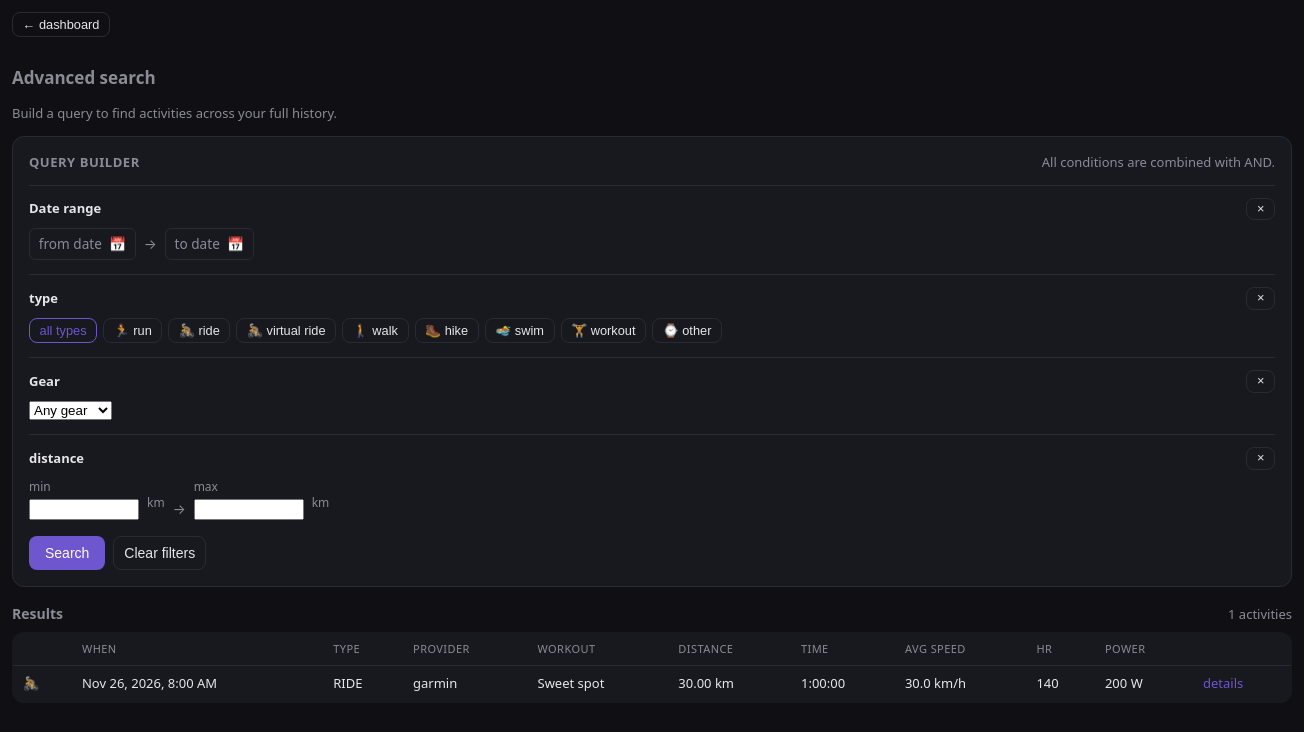
Test case: AdvancedSearchSection › removes and re-adds a filter
Check: the text "1 activities" is shown, box [1228,605,1292,624]
Click the button named "Remove filter distance".
click(1261, 458)  # box [1246,447,1275,470]
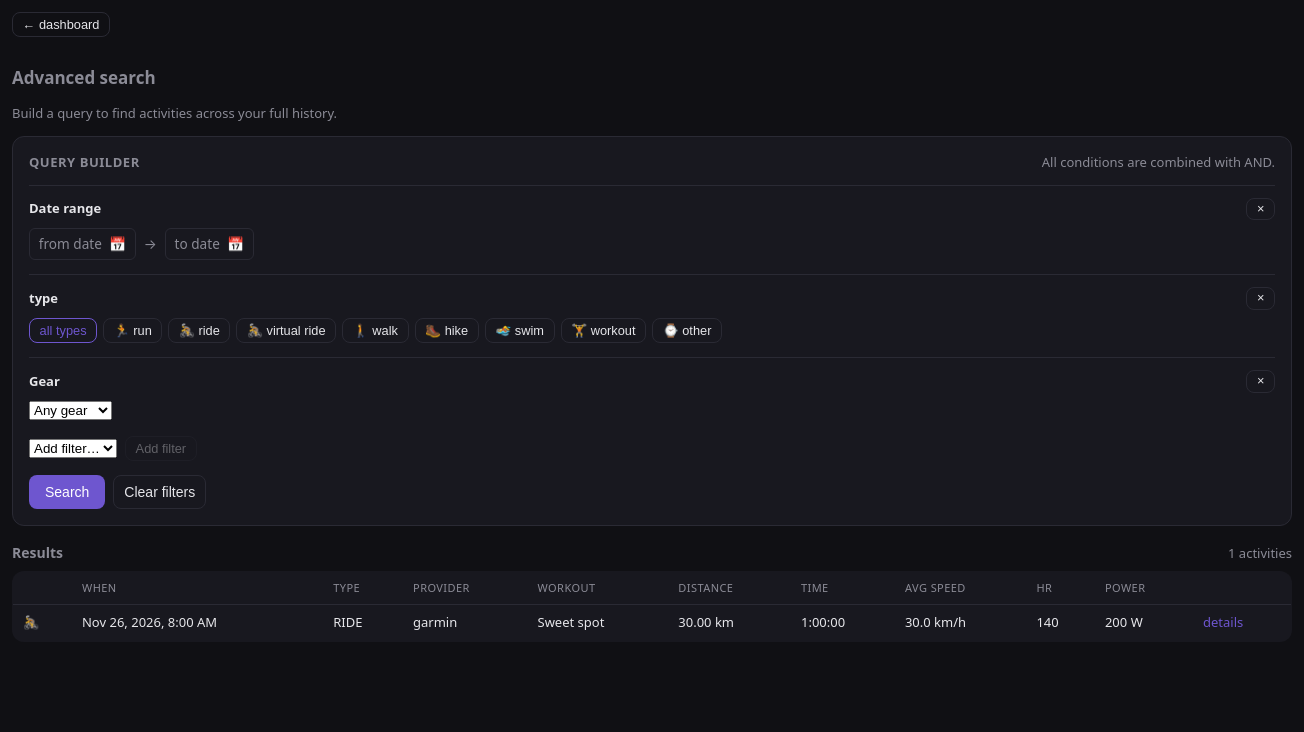
Click the button named "Remove filter Date range".
click(1261, 209)  # box [1246,198,1275,220]
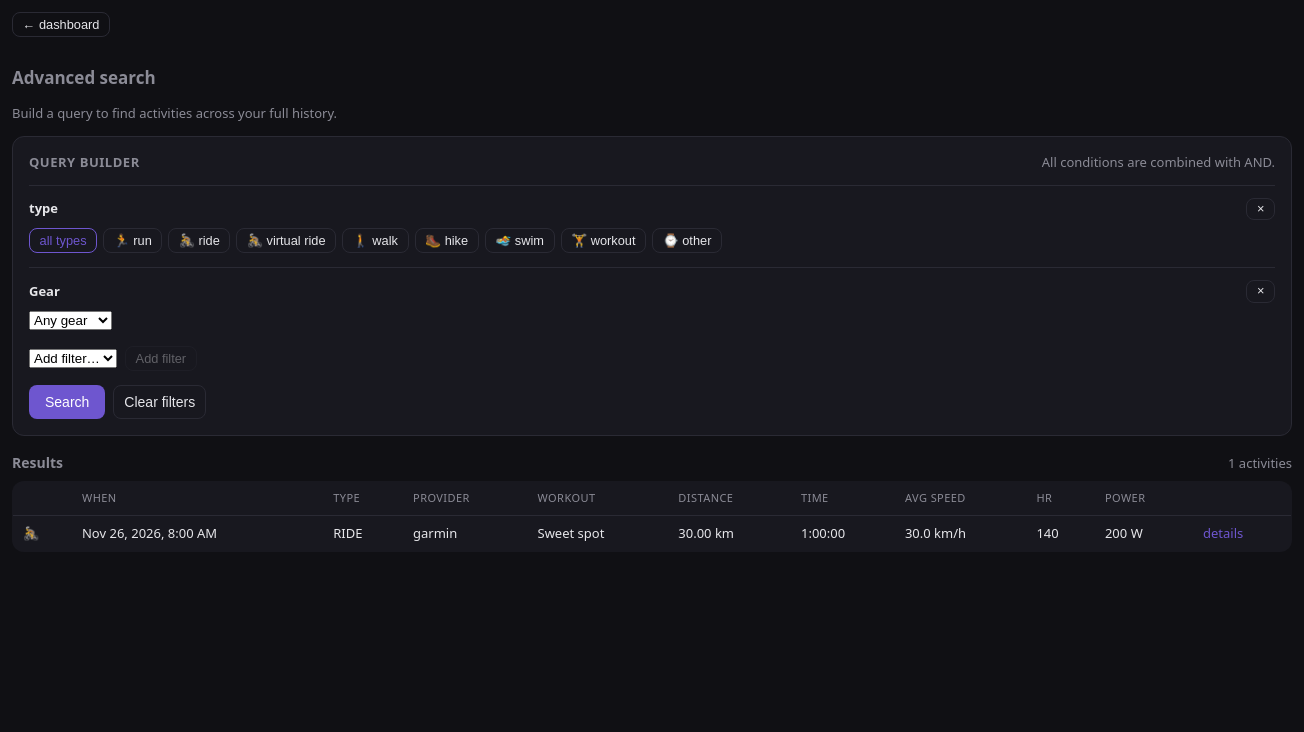
Check: the button "from date" is gone
Click the button named "Remove filter type".
click(1261, 209)  # box [1246,198,1275,220]
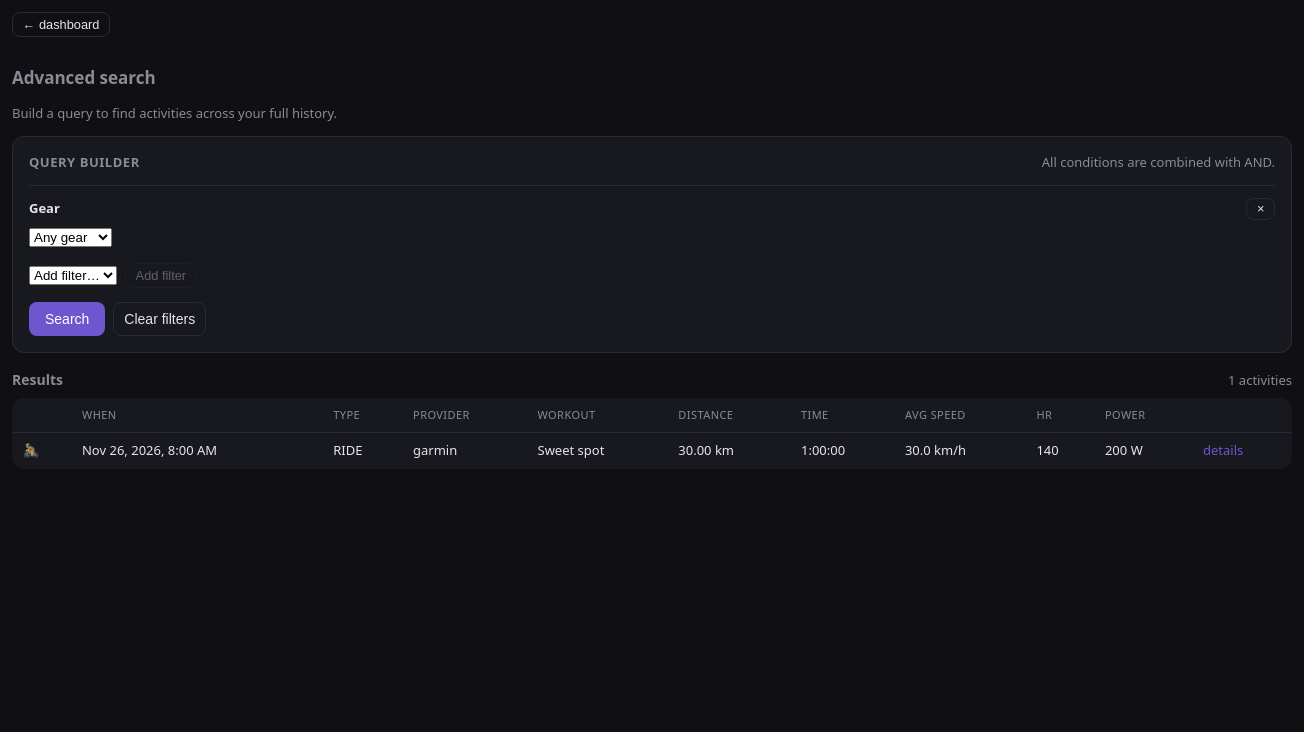
Check: the button "run" is gone
Click the button named "Remove filter Gear".
click(1261, 209)  # box [1246,198,1275,220]
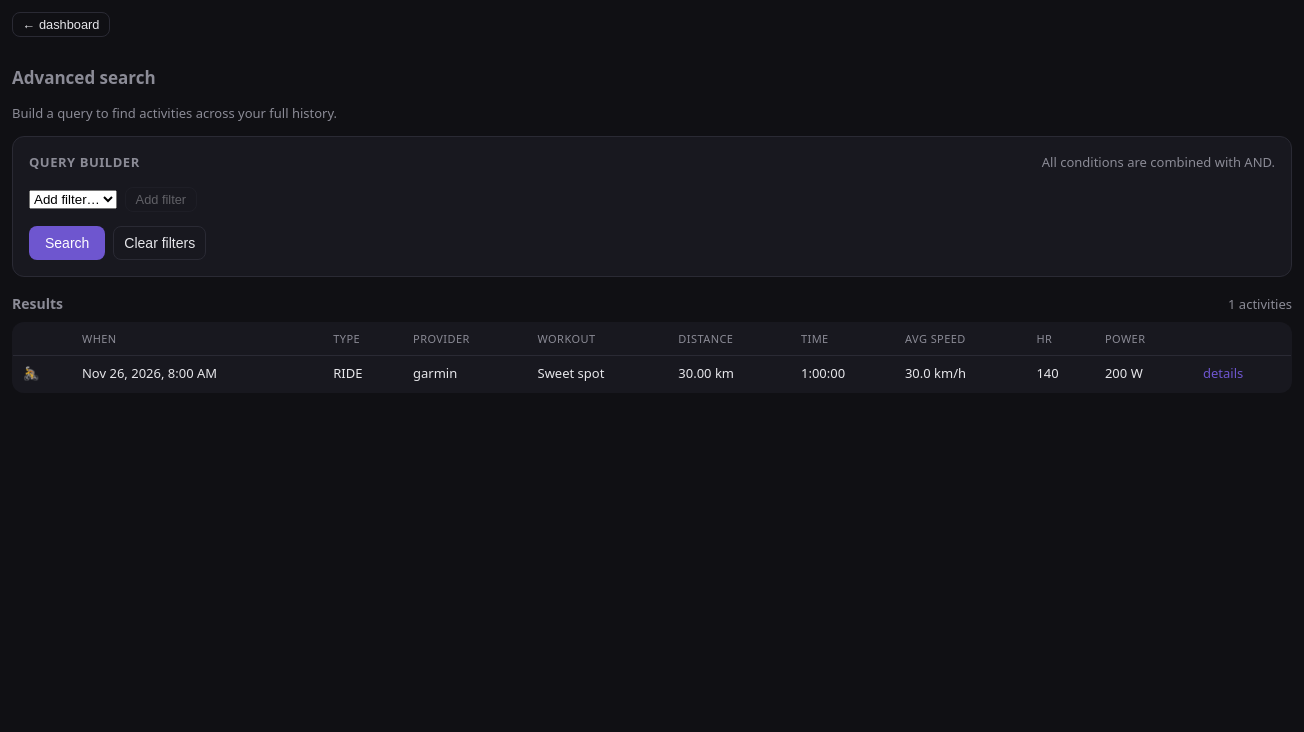
Check: the text labelled "Gear" is gone
Select "distance" in the dropdown named "Add filter" at (73, 199), box [29,190,117,208]
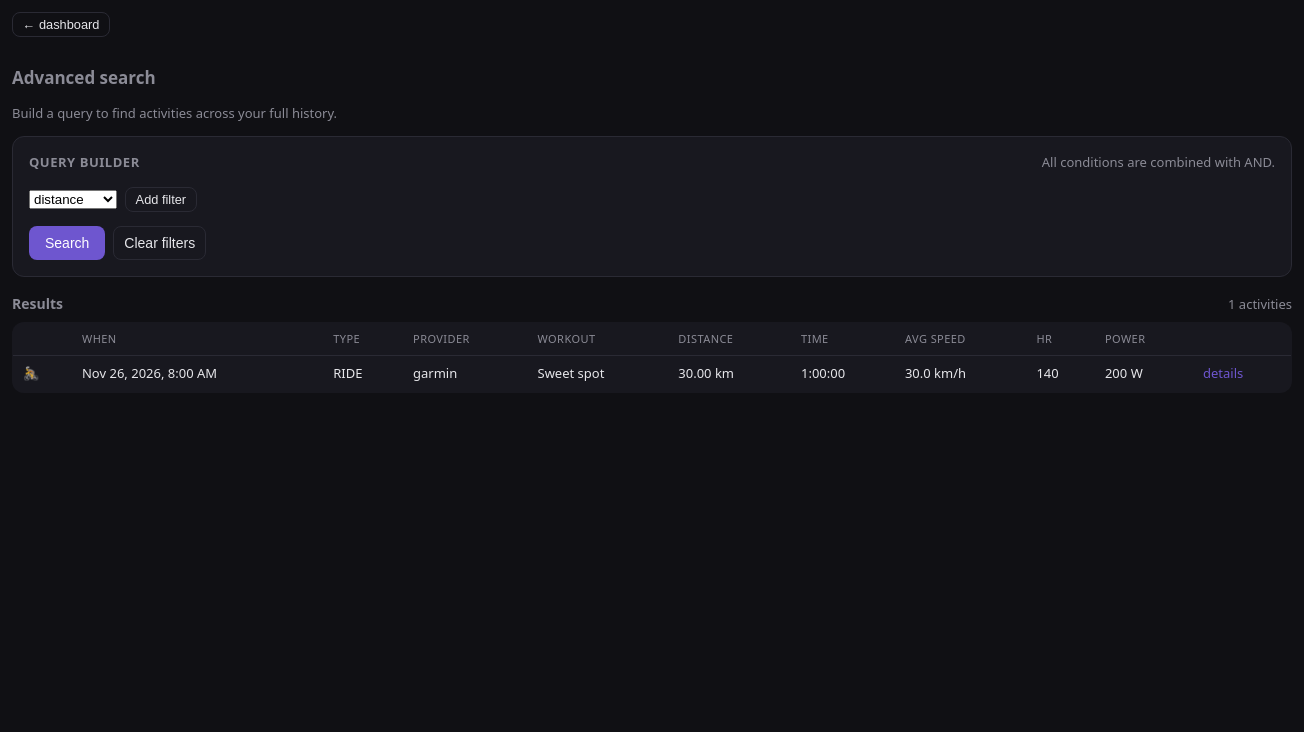
Click the button "Add filter".
click(161, 199)  # box [125,186,197,212]
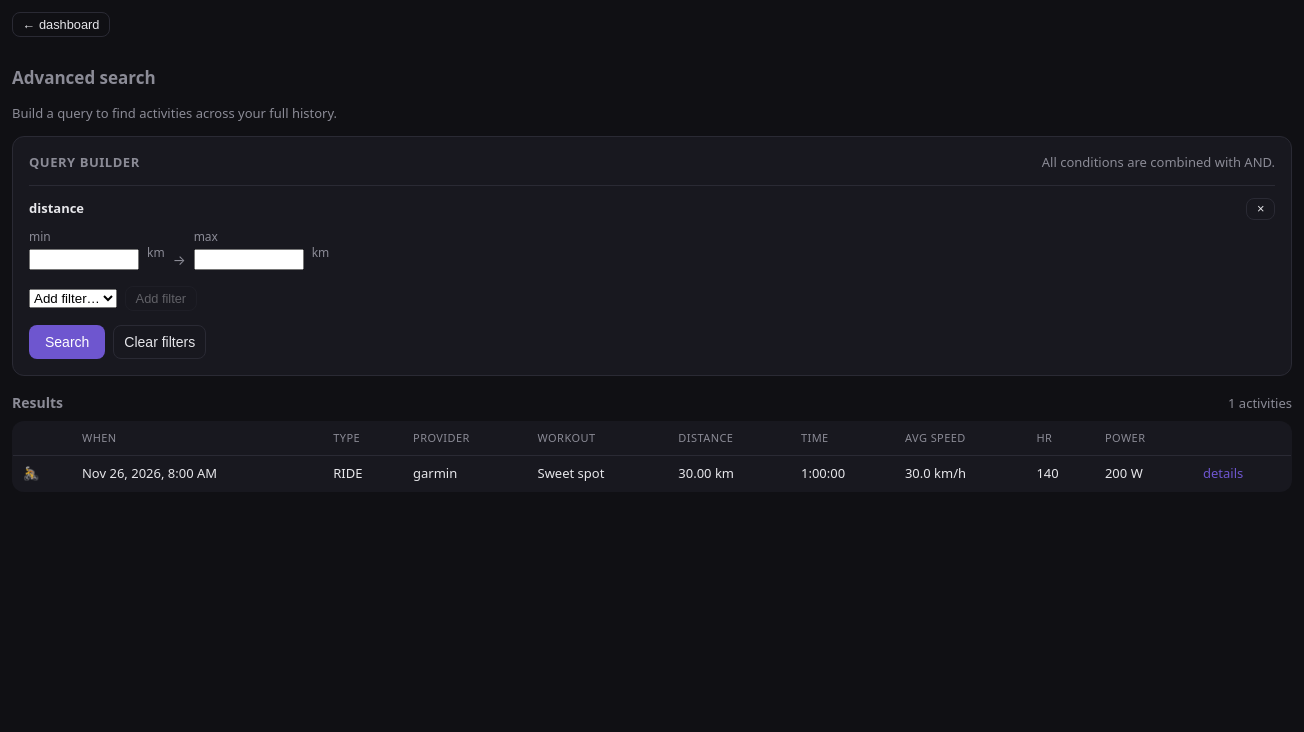
Check: the number field named "min distance" is shown, box [29,249,139,270]
